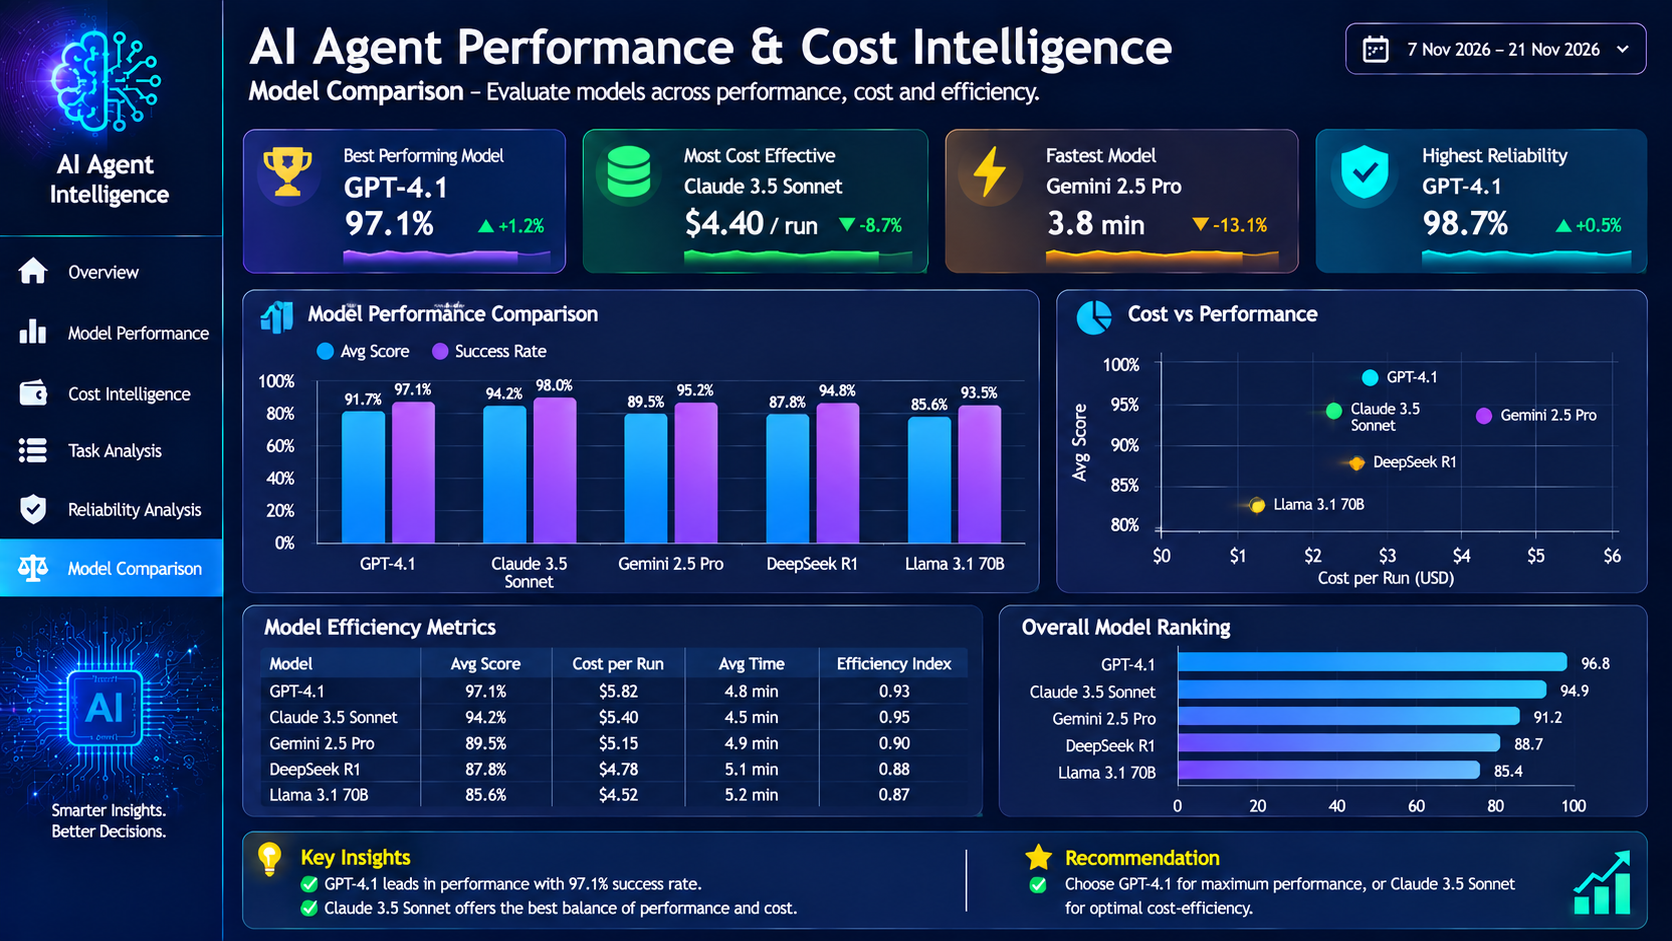

The page's visual inventory and layout, read from the dashboard file:
{"tool":"powerbi","page":{"name":"Model Comparison","canvas":[1920,1080],"ordinal":5},"visuals":[{"type":"image","box":[10.3,0,1910.1,1080.6],"z":0}]}

Visuals, with their boxes in screenshot pixels (x1, y1, x2, y2), scaled from the page's 1920x1080 canvas onto the 1672x941 screenshot:
image: x1=9 y1=0 x2=1671 y2=940
